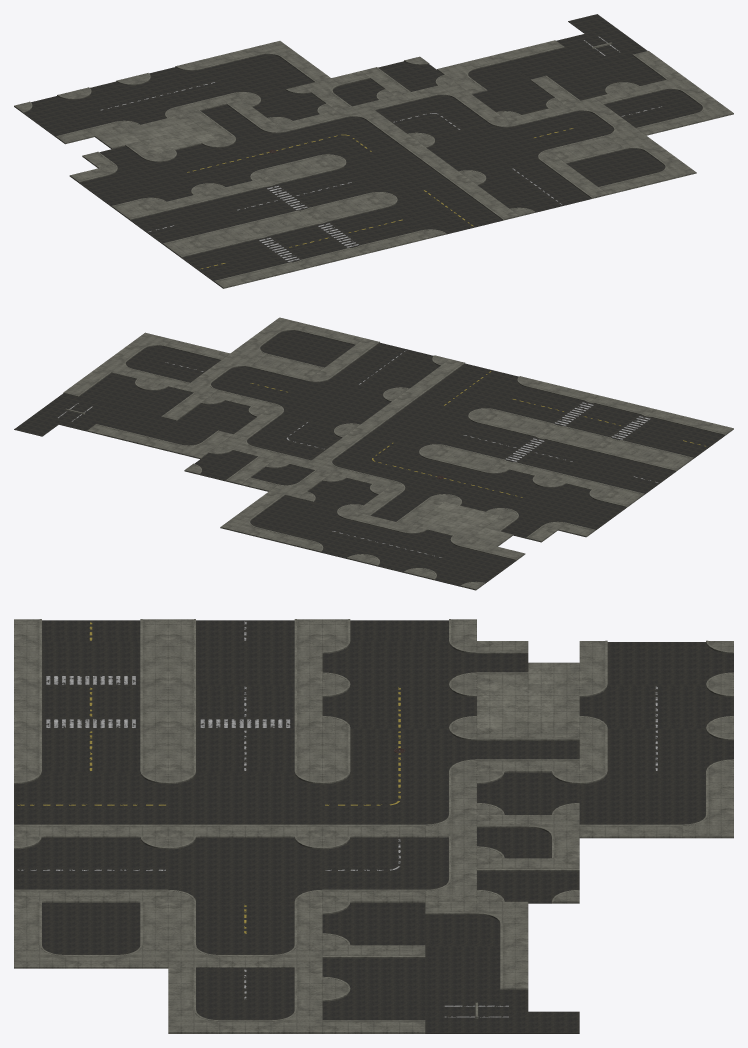
Rendered from urbroads_pieces.fbx.
The picture shows the model from 3 angles, top to bottom: view 1: azimuth 30°, elevation 25°; view 2: azimuth 150°, elevation 25°; view 3: azimuth 270°, elevation 25°; orthographic projection. The views are drawn at different scales.
Parts seen in each view (by area): view 1: UrbanRoad.EndC, UrbanRoad.EndB, UrbanRoad.T1, UrbanRoad.CornerA, UrbanRoad.T2, UrbanRoad.CornerB, UrbanRoad.CornerC, UrbanRoad.EndA, UrbanRoad.T3, UrbanRoad.Cross, UrbanRoad.StraightB, UrbanRoad.StraightF (+27 smaller); view 2: UrbanRoad.CornerC, UrbanRoad.EndA, UrbanRoad.EndB, UrbanRoad.T1, UrbanRoad.T3, UrbanRoad.CornerA, UrbanRoad.EndC, UrbanRoad.T2, UrbanRoad.CornerB, UrbanRoad.Cross, UrbanRoad.AlleyEntranceE, UrbanRoad.AlleyEntranceC (+27 smaller); view 3: UrbanRoad.CornerC, UrbanRoad.EndC, UrbanRoad.EndB, UrbanRoad.CornerA, UrbanRoad.Cross, UrbanRoad.T1, UrbanRoad.T3, UrbanRoad.T2, UrbanRoad.CornerB, UrbanRoad.EndA, UrbanRoad.AlleyEntranceC, UrbanRoad.AlleyEntranceE (+27 smaller).
Part boxes in pixels (box(x1,y1,x2,y2)): UrbanRoad.EndC: box(557, 135, 696, 194); UrbanRoad.EndB: box(594, 75, 733, 135); UrbanRoad.T1: box(379, 178, 518, 238); UrbanRoad.CornerA: box(277, 103, 415, 162); UrbanRoad.T2: box(468, 156, 607, 216); UrbanRoad.CornerB: box(366, 81, 504, 140); UrbanRoad.CornerC: box(192, 41, 330, 99); UrbanRoad.EndA: box(506, 97, 644, 156); UrbanRoad.T3: box(328, 140, 467, 199); UrbanRoad.Cross: box(417, 119, 556, 177); UrbanRoad.StraightB: box(261, 214, 371, 267); UrbanRoad.StraightF: box(202, 228, 311, 281); UrbanRoad.CornerC: box(220, 491, 354, 548); UrbanRoad.EndA: box(181, 353, 315, 410); UrbanRoad.EndB: box(96, 332, 229, 389); UrbanRoad.T1: box(401, 359, 534, 415); UrbanRoad.T3: box(352, 395, 485, 451); UrbanRoad.CornerA: box(302, 431, 436, 487); UrbanRoad.EndC: box(230, 317, 364, 373); UrbanRoad.T2: box(316, 338, 449, 394); UrbanRoad.CornerB: box(217, 410, 350, 467); UrbanRoad.Cross: box(267, 374, 400, 430); UrbanRoad.AlleyEntranceE: box(419, 539, 525, 590); UrbanRoad.AlleyEntranceC: box(305, 512, 410, 562); UrbanRoad.CornerC: box(579, 771, 733, 838); UrbanRoad.EndC: box(14, 901, 168, 968); UrbanRoad.EndB: box(168, 966, 322, 1033); UrbanRoad.CornerA: box(322, 771, 476, 837); UrbanRoad.Cross: box(168, 836, 322, 902); UrbanRoad.T1: box(14, 771, 168, 837); UrbanRoad.T3: box(168, 771, 322, 837); UrbanRoad.T2: box(14, 836, 168, 902); UrbanRoad.CornerB: box(322, 836, 476, 902); UrbanRoad.EndA: box(168, 901, 322, 967); UrbanRoad.AlleyEntranceC: box(579, 727, 733, 772); UrbanRoad.AlleyEntranceE: box(579, 640, 733, 685).
Size of the model in its own units: 7600 by 22.91 by 5600.
